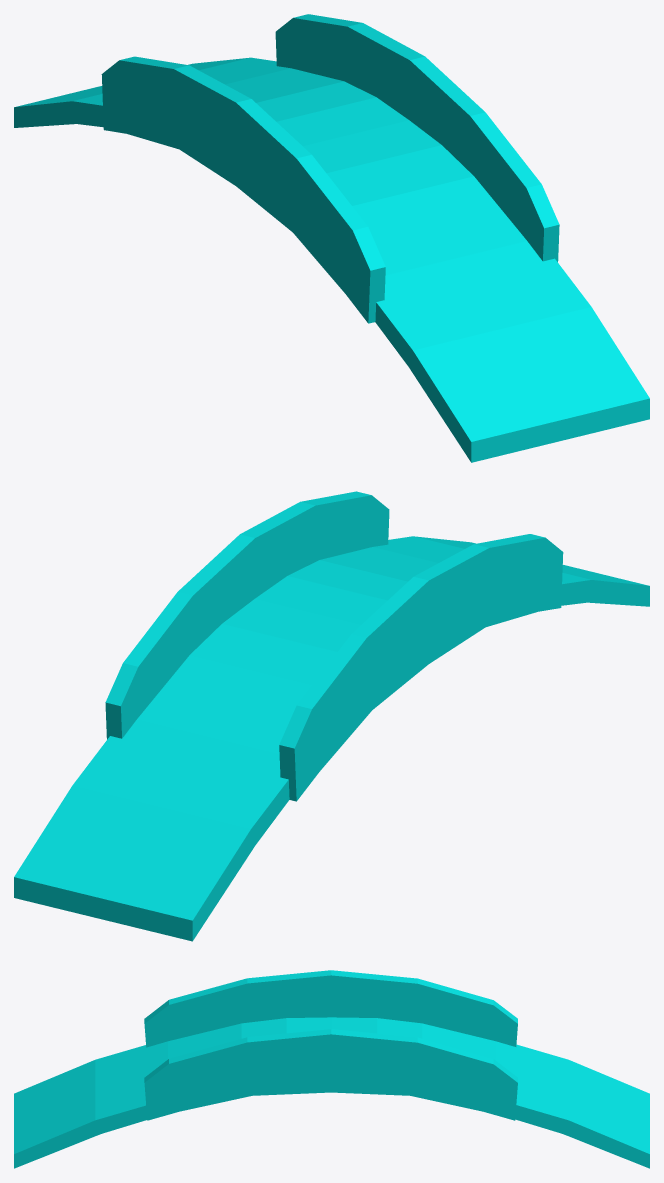
The model's file is SM_Bld_Bridge_03_Collision.fbx.
3 renders of one model, top to bottom at view 1: azimuth 30°, elevation 25°; view 2: azimuth 150°, elevation 25°; view 3: azimuth 270°, elevation 25°, orthographic. The views are drawn at different scales.
Parts seen in each view (by area): view 1: SM_Bld_Bridge_03_Collision; view 2: SM_Bld_Bridge_03_Collision; view 3: SM_Bld_Bridge_03_Collision.
Boxes of the visible parts, x1,y1,x2,y2 form: SM_Bld_Bridge_03_Collision: (14,14,649,462); SM_Bld_Bridge_03_Collision: (14,491,649,941); SM_Bld_Bridge_03_Collision: (14,970,649,1168).
Bounding box in the file's own units: 308 × 304 × 1290.
